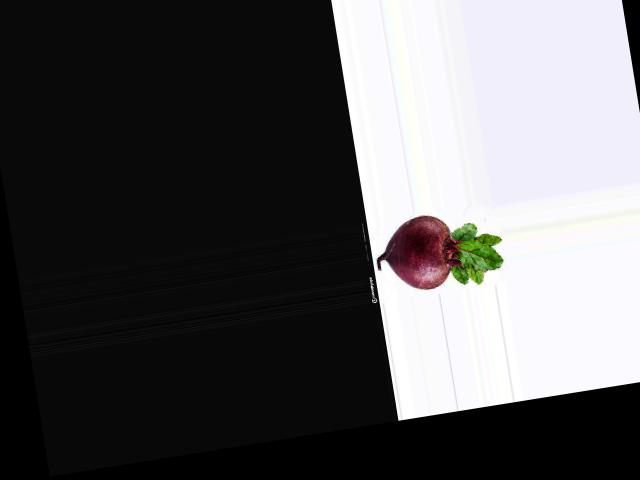beet: (371, 203, 508, 299)
